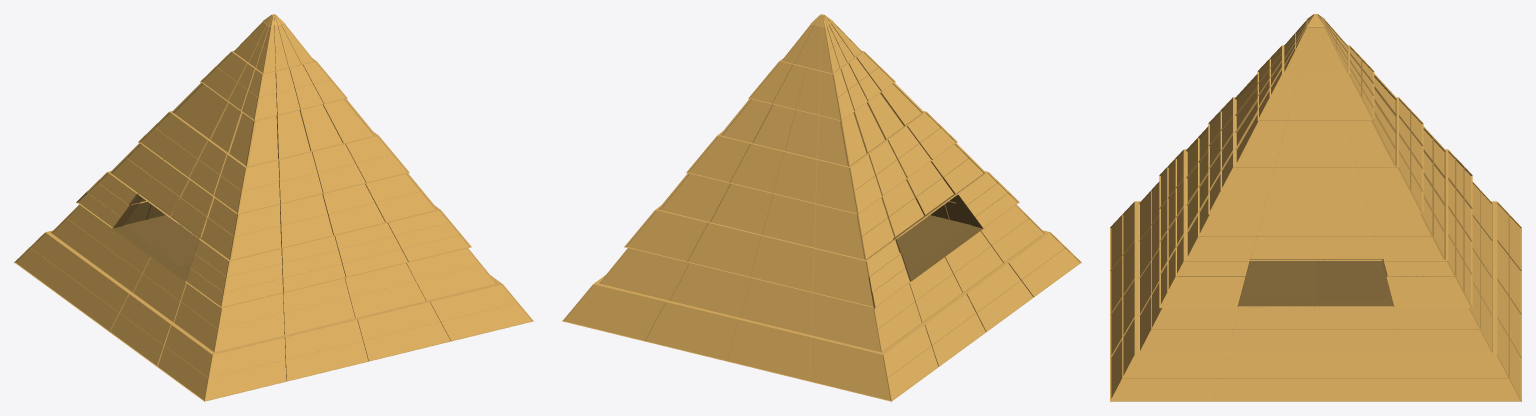
File: piramade.fbx
3 renders of one model, left to right at view 1: azimuth 30°, elevation 25°; view 2: azimuth 150°, elevation 25°; view 3: azimuth 270°, elevation 25°, orthographic. The views are drawn at different scales.
Parts seen in each view (by area): view 1: Cube, Cube.001; view 2: Cube, Cube.001; view 3: Cube, Cube.001.
Part boxes in pixels (x1,y1,x2,y2): Cube: [14, 14, 533, 401]; Cube.001: [76, 173, 229, 281]; Cube: [562, 14, 1081, 401]; Cube.001: [866, 173, 984, 308]; Cube: [1110, 14, 1521, 401]; Cube.001: [1177, 158, 1472, 307].
Size of the model in its own units: 27101 by 21792 by 27101.
